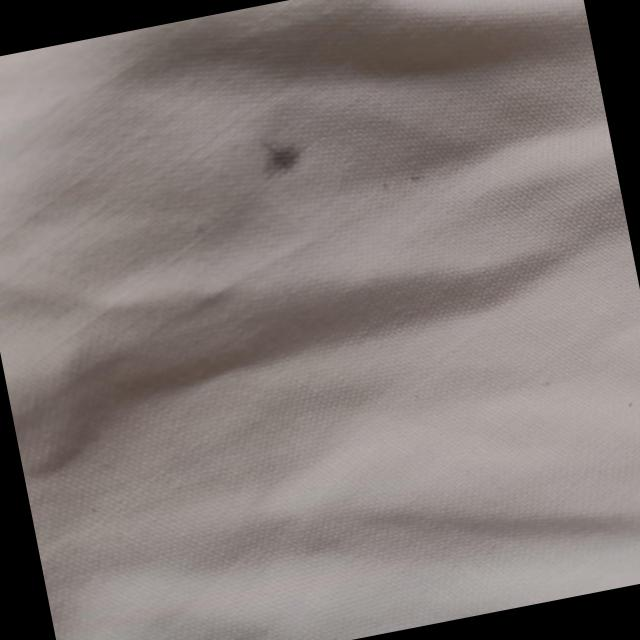stain: (234, 119, 330, 194)
